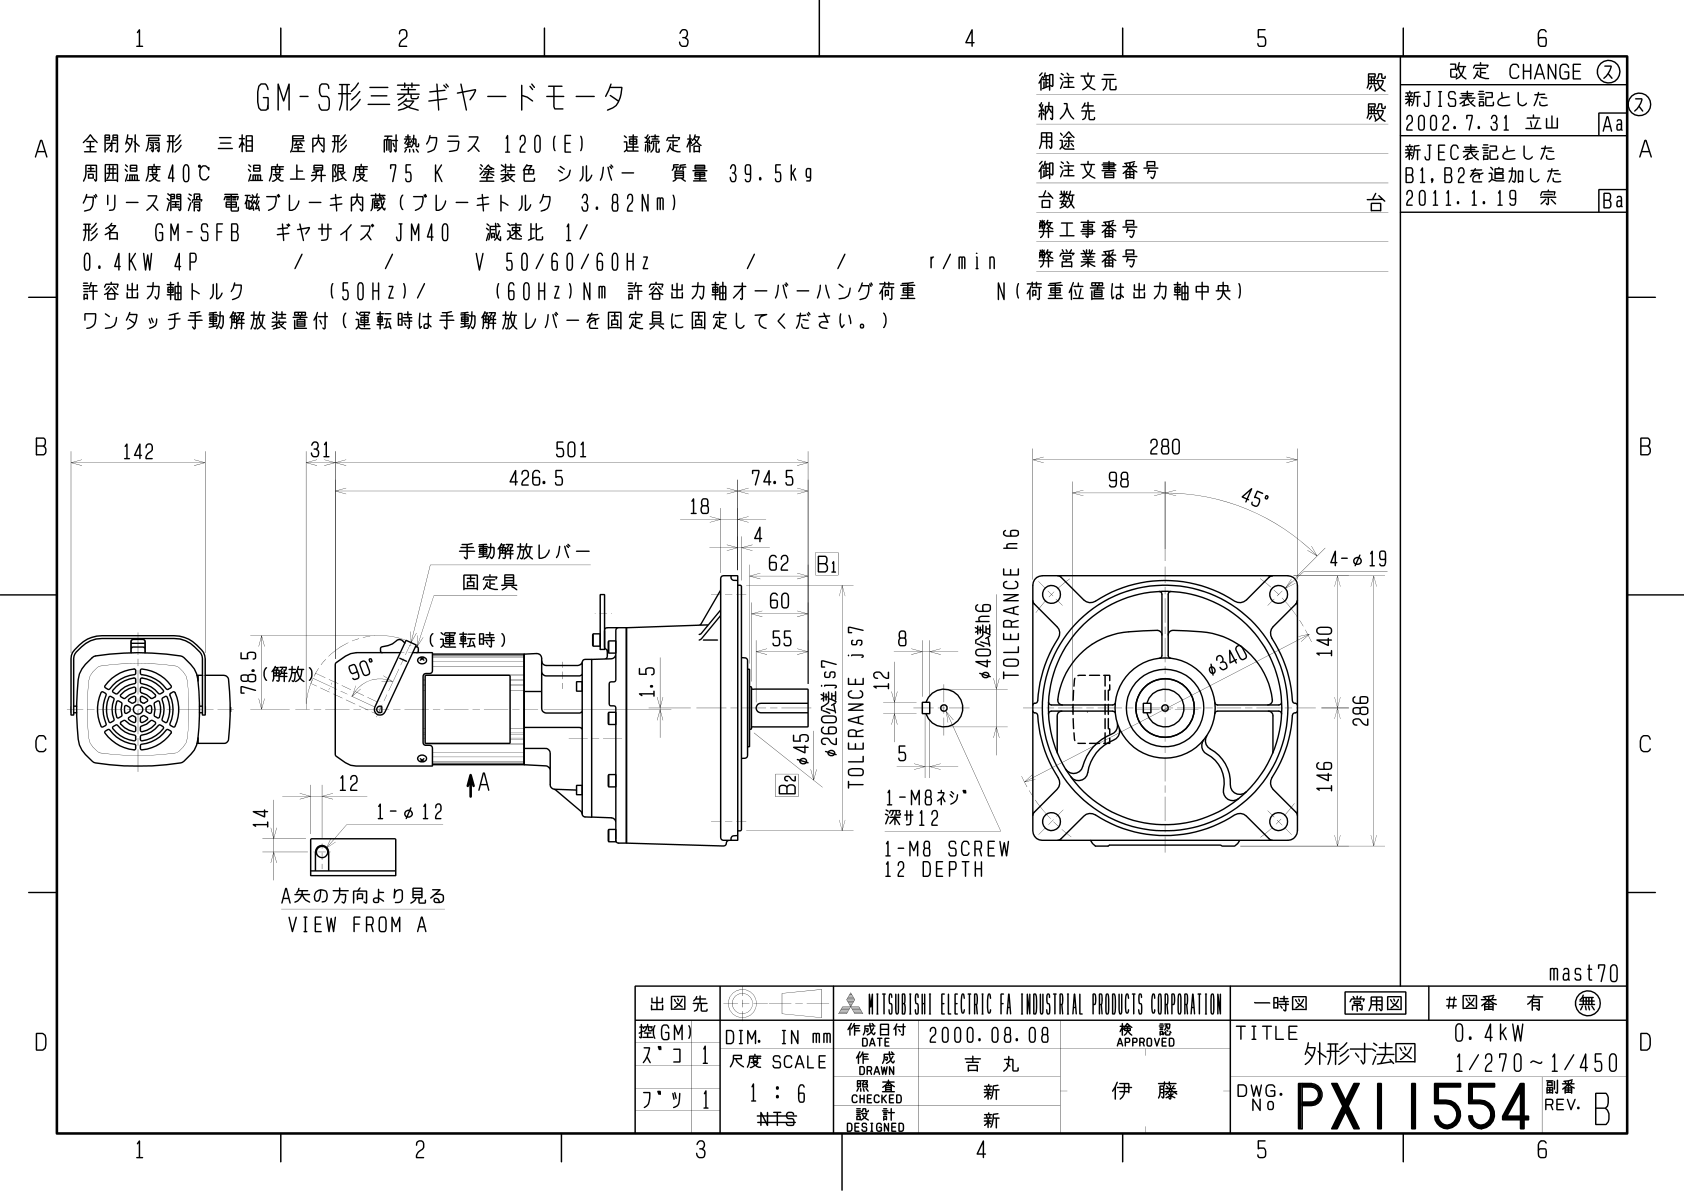GM_S_手動ブレーキ＿三相_フランジ: (64, 403, 1395, 955)
